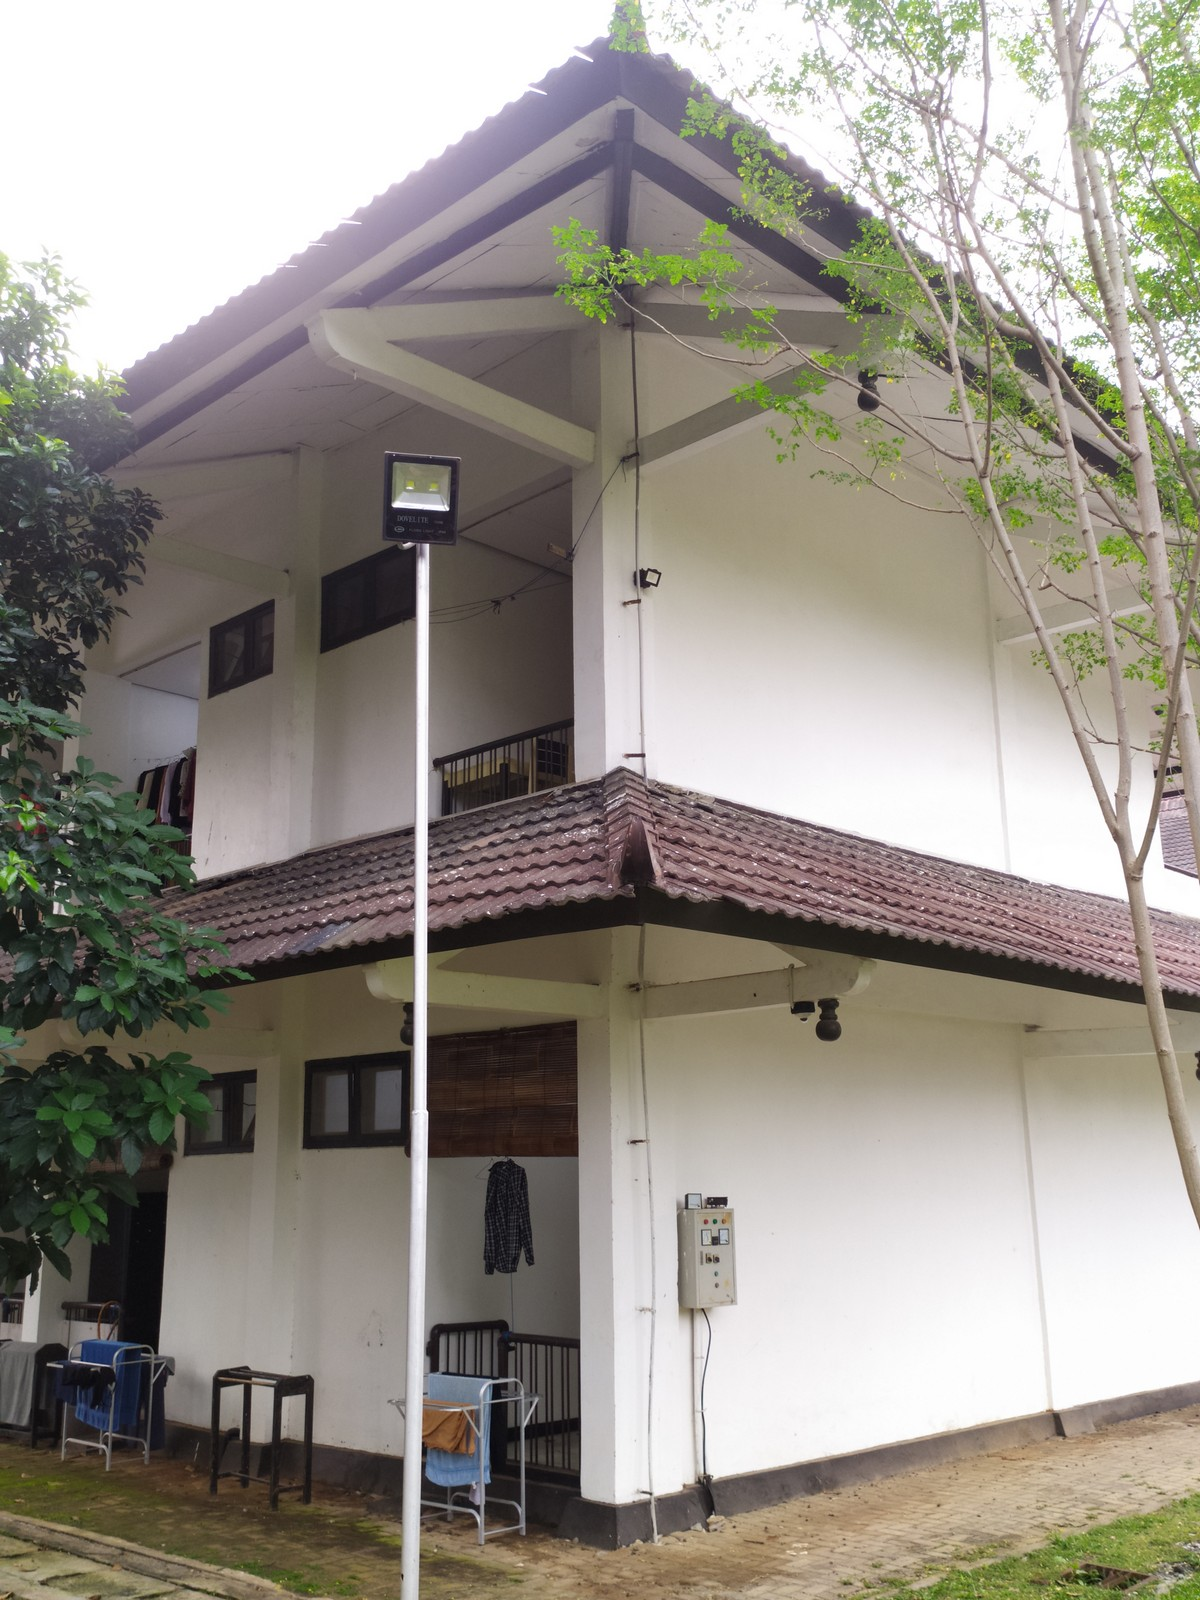concrete beam: (368, 357, 604, 477), (618, 374, 811, 483), (613, 960, 800, 1032)
concrete column: (563, 939, 679, 1543), (555, 305, 661, 786), (246, 986, 316, 1443), (260, 436, 323, 858)
